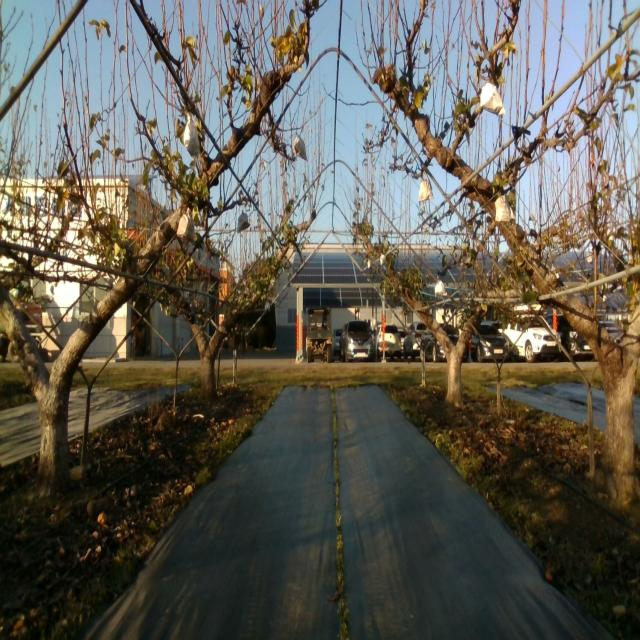pearbags: (481, 83, 505, 116), (183, 111, 200, 157), (176, 208, 194, 244), (494, 194, 515, 222), (292, 134, 307, 161), (418, 178, 434, 202), (237, 209, 250, 233)
